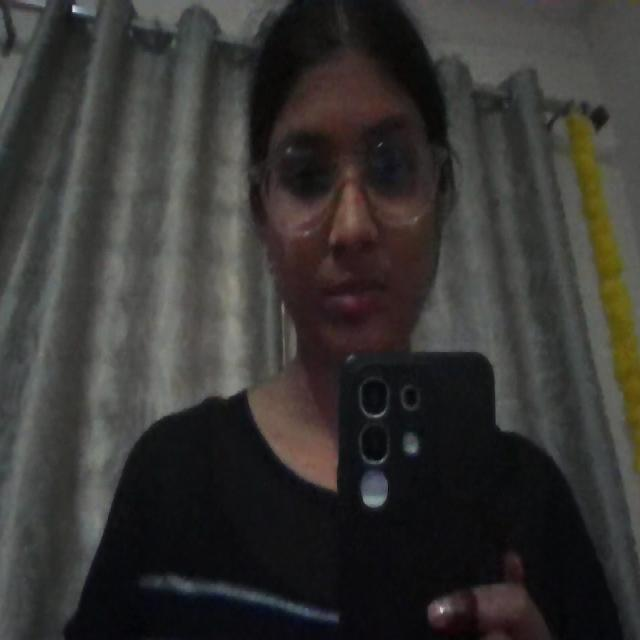phone: (336, 352, 521, 639)
